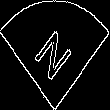N_SW: (31, 23, 79, 87)
